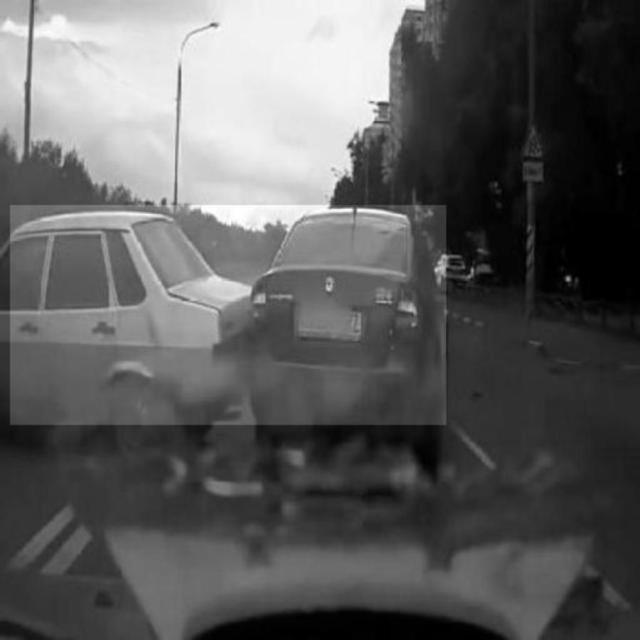accident: (11, 205, 447, 426)
